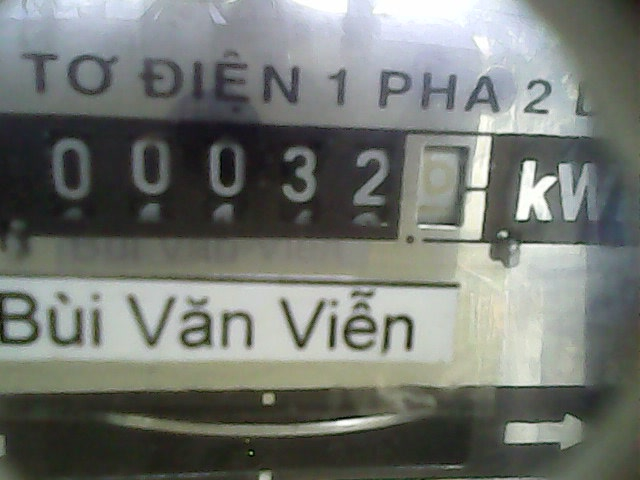phy_plate: (32, 109, 500, 267)
